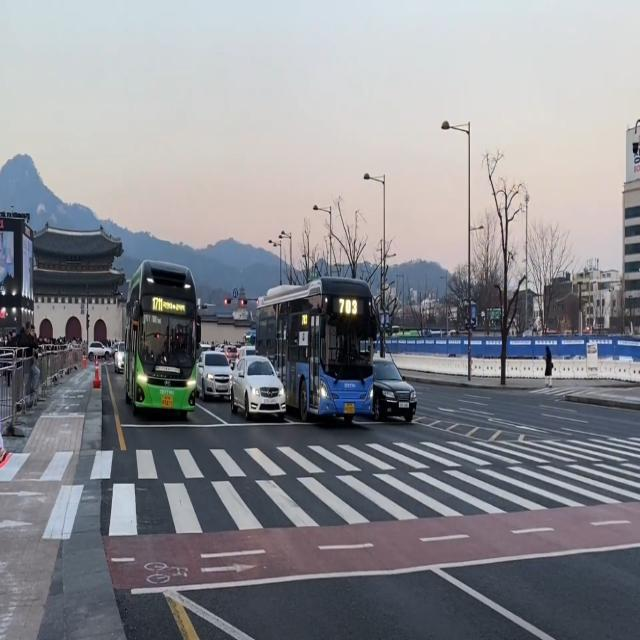bus-number: (339, 298, 358, 315), (152, 296, 163, 312)
